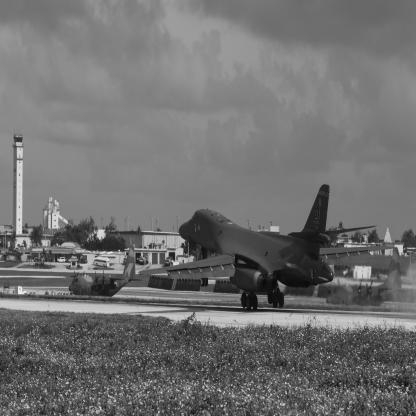B1: (139, 185, 395, 311)
C130: (323, 248, 409, 307), (70, 245, 144, 298)
